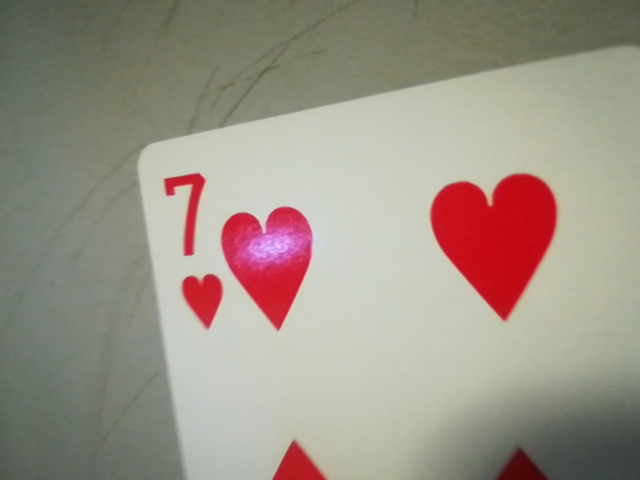hx 7: (155, 157, 233, 338)
